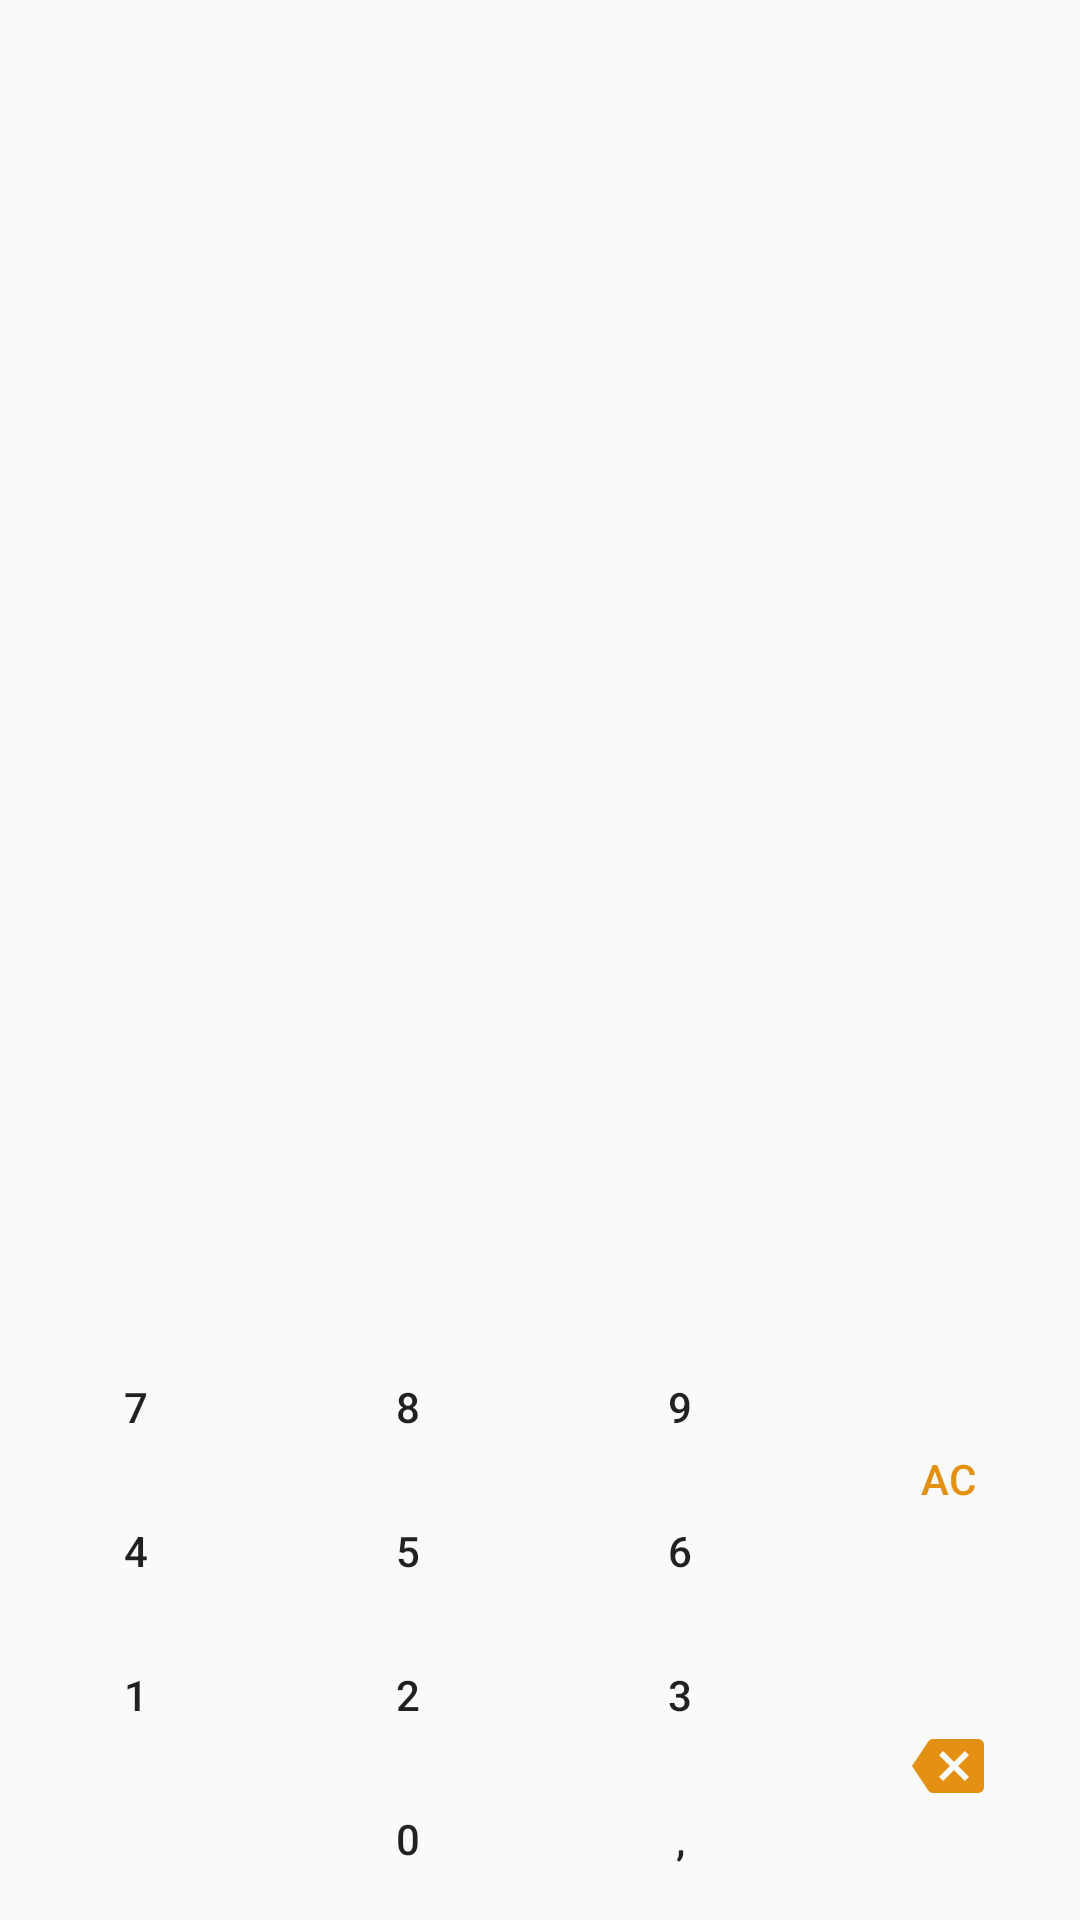

Point at icon controls on the screen. Image size 1080px×1920px, points as point (x, y).
del: point (948, 1766)
